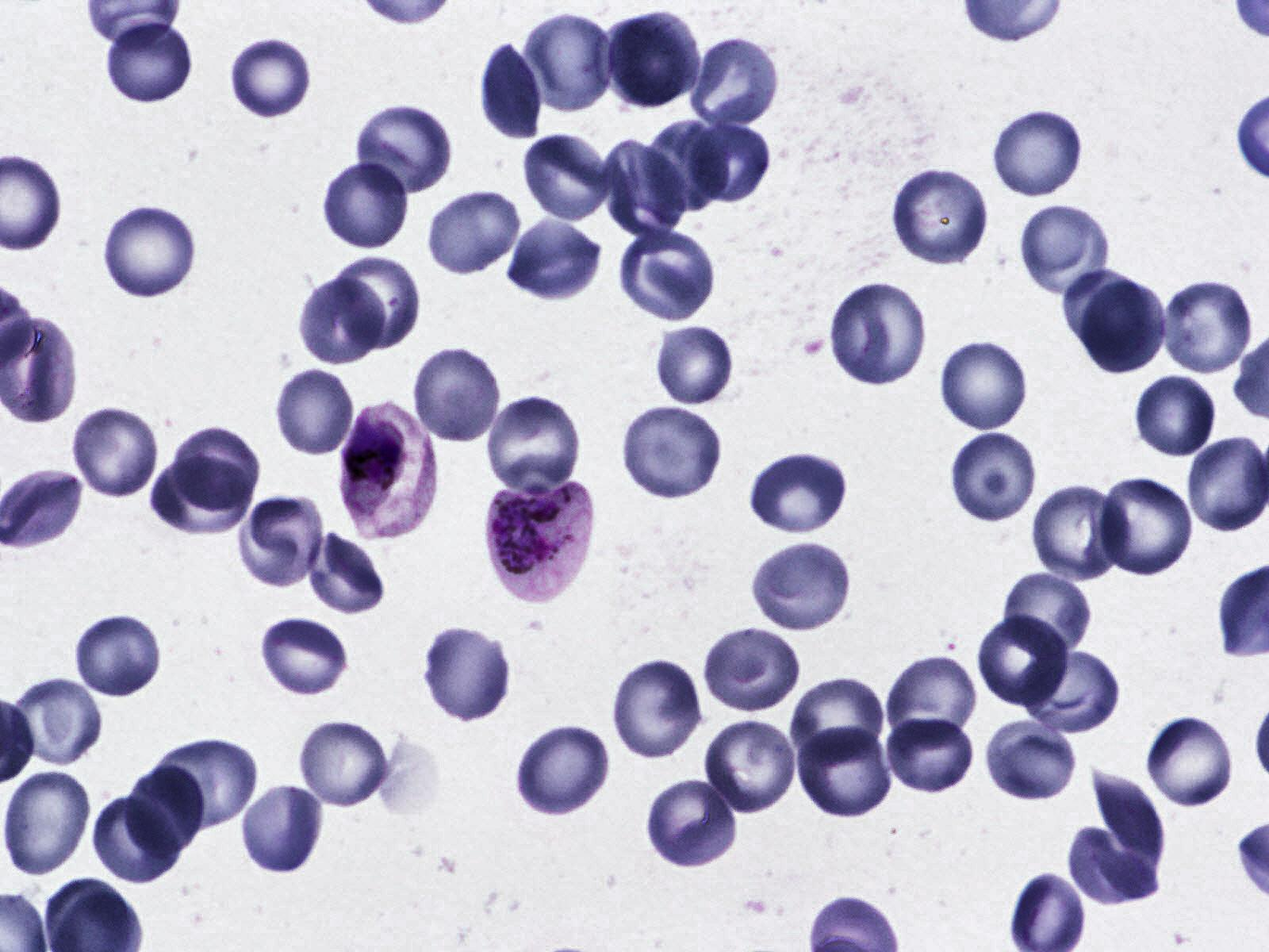Infected: (337, 405, 439, 543), (483, 476, 589, 604)
Uninfected: (481, 392, 585, 500), (827, 278, 929, 386), (517, 6, 616, 117), (611, 654, 705, 762), (604, 7, 703, 109), (794, 724, 897, 821), (154, 737, 260, 831), (619, 406, 723, 501), (746, 535, 849, 630), (410, 343, 503, 448), (702, 715, 799, 815), (102, 200, 198, 301), (1144, 712, 1239, 814), (1158, 278, 1256, 376), (1088, 759, 1167, 880), (891, 170, 991, 265), (642, 774, 742, 869), (937, 336, 1033, 433), (514, 722, 612, 817), (1033, 482, 1128, 580), (1102, 478, 1196, 577), (981, 604, 1064, 716), (1016, 646, 1120, 735), (355, 102, 453, 196), (293, 716, 392, 809), (617, 228, 717, 319), (598, 137, 689, 237), (1017, 202, 1112, 297), (792, 674, 885, 771), (7, 676, 106, 767), (323, 256, 423, 346), (883, 651, 979, 744), (989, 107, 1087, 198), (238, 487, 323, 591), (89, 794, 185, 886), (522, 132, 613, 228), (423, 621, 509, 722), (320, 156, 413, 249), (71, 405, 160, 502), (999, 570, 1098, 657), (1183, 432, 1268, 533), (6, 772, 90, 874), (749, 451, 849, 536), (503, 218, 604, 302), (425, 189, 523, 275), (691, 35, 780, 129), (106, 17, 195, 109), (949, 432, 1037, 525), (645, 116, 727, 215), (151, 455, 255, 533), (171, 426, 266, 511), (1082, 279, 1167, 374), (882, 712, 979, 795), (127, 760, 205, 863), (240, 781, 327, 873), (983, 720, 1077, 805), (303, 272, 386, 368), (1066, 263, 1149, 359), (704, 628, 799, 711), (1068, 824, 1162, 904), (261, 616, 354, 696), (1133, 374, 1220, 458), (274, 367, 355, 456), (74, 615, 162, 695), (306, 530, 386, 618), (681, 121, 769, 200), (232, 33, 310, 121), (474, 43, 542, 141), (654, 327, 736, 405)
